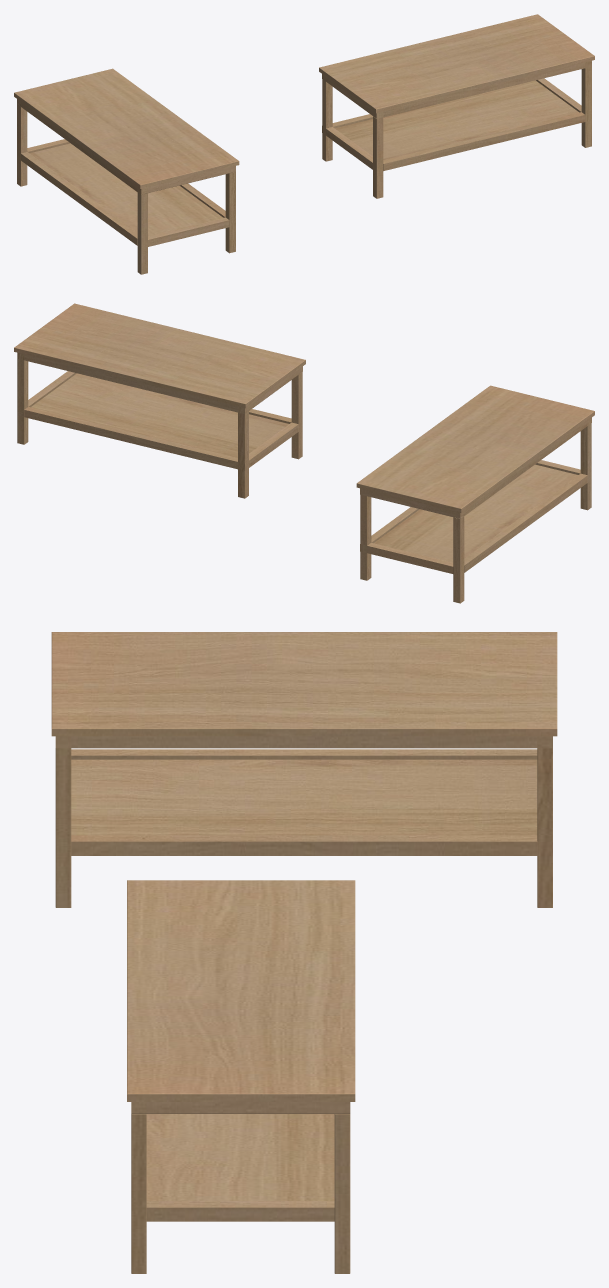
The model's file is zhuozi.fbx.
3 views of the same model, one above another, from view 1: azimuth 30°, elevation 25°; view 2: azimuth 150°, elevation 25°; view 3: azimuth 270°, elevation 25° (orthographic). The views are drawn at different scales.
Visible parts, largest first — view 1: zhuozi1, zhuozi2; view 2: zhuozi1, zhuozi2; view 3: zhuozi2, zhuozi1.
Boxes of the visible parts, x1,y1,x2,y2 form: zhuozi1: [319, 14, 594, 198]; zhuozi2: [14, 68, 239, 274]; zhuozi1: [14, 303, 305, 498]; zhuozi2: [356, 385, 594, 603]; zhuozi2: [51, 632, 557, 907]; zhuozi1: [127, 880, 355, 1273].
Size of the model in its own units: 492 by 90.31 by 228.
